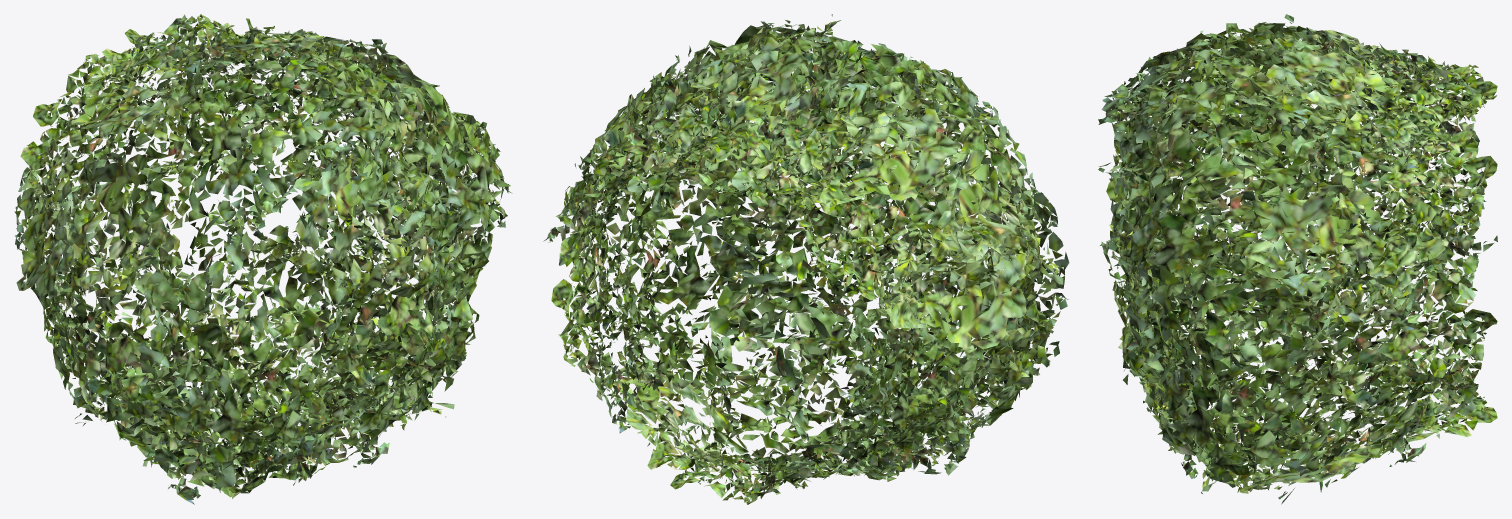
File: hedge_bush.glb
The picture shows the model from 3 angles, left to right: view 1: azimuth 30°, elevation 25°; view 2: azimuth 150°, elevation 25°; view 3: azimuth 270°, elevation 25°; orthographic projection.
Bounding box in the file's own units: 1.05 × 0.9626 × 0.8077.
1 material, 1 textured.
